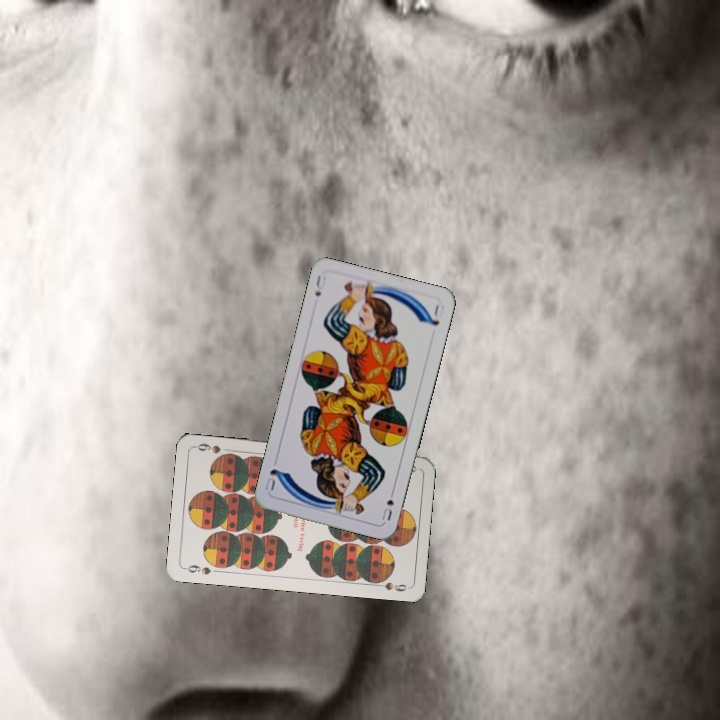S9: (181, 560, 213, 577)
SU: (378, 484, 398, 523), (311, 271, 329, 299)
